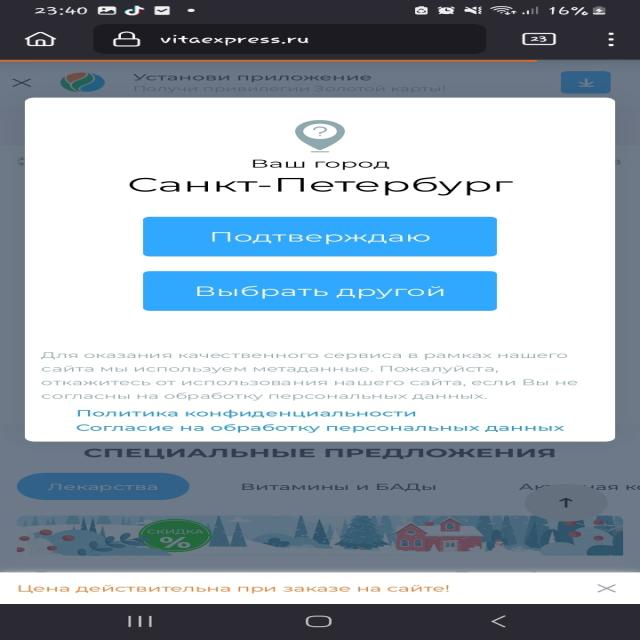button: (140, 215, 500, 257), (142, 270, 500, 311), (556, 72, 618, 93), (4, 74, 40, 90), (589, 581, 627, 595)
site: (24, 98, 614, 441), (4, 63, 640, 97), (0, 573, 640, 604)
